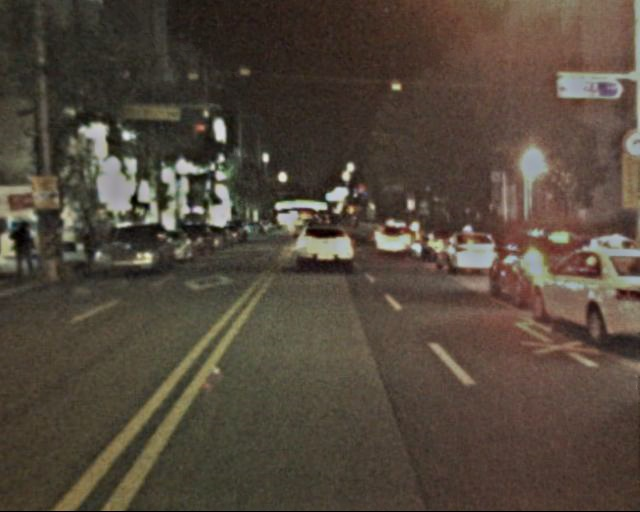person: (12, 217, 49, 278), (80, 221, 105, 272)
